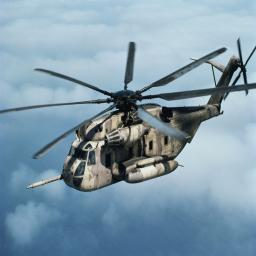helicopter: (16, 41, 256, 191)
